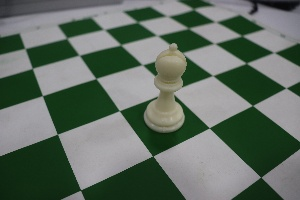white_bishop: (136, 26, 189, 133)
